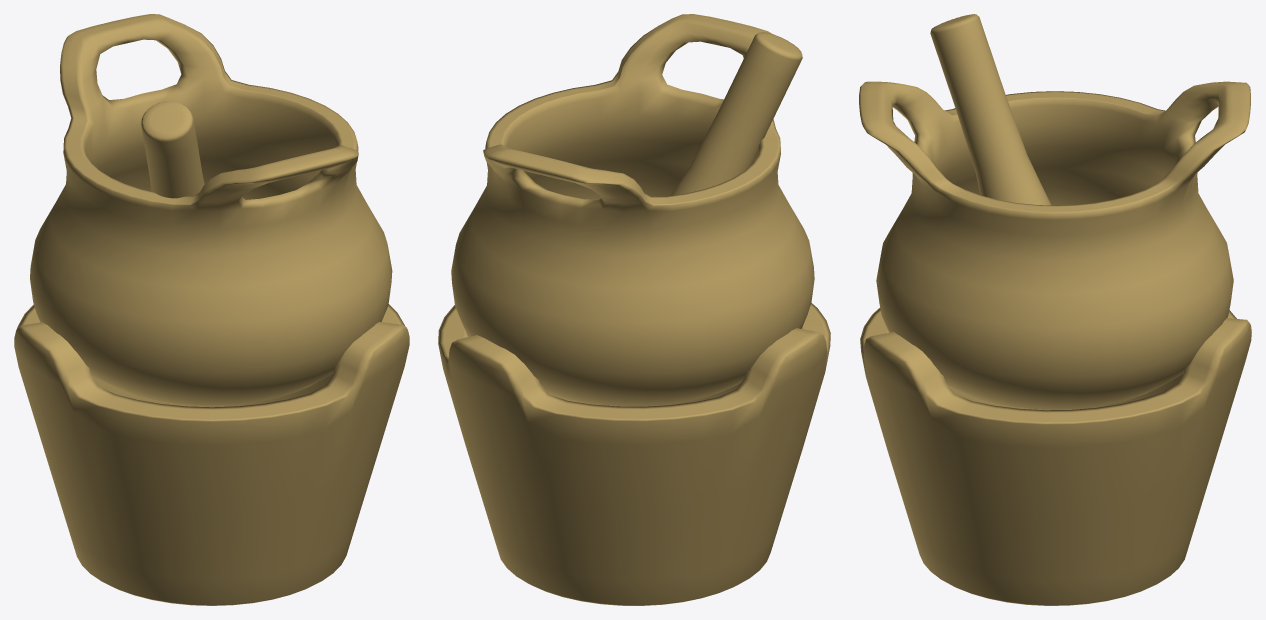
Rendered from pot.fbx.
3 views of the same model, side by side, from view 1: azimuth 30°, elevation 25°; view 2: azimuth 150°, elevation 25°; view 3: azimuth 270°, elevation 25° (orthographic).
Visible parts, largest first — view 1: pCylinder1, pCylinder3, pCylinder2; view 2: pCylinder1, pCylinder3, pCylinder2; view 3: pCylinder1, pCylinder3, pCylinder2.
Part boxes in pixels (x1,y1,x2,y2): pCylinder1: (30, 14, 392, 405); pCylinder3: (14, 304, 409, 605); pCylinder2: (141, 101, 204, 198); pCylinder1: (451, 14, 814, 406); pCylinder3: (438, 303, 830, 605); pCylinder2: (671, 32, 802, 195); pCylinder1: (859, 81, 1250, 409); pCylinder3: (860, 307, 1251, 605); pCylinder2: (930, 14, 1051, 205).
Bounding box in the file's own units: 10.54 × 14.56 × 10.5.
